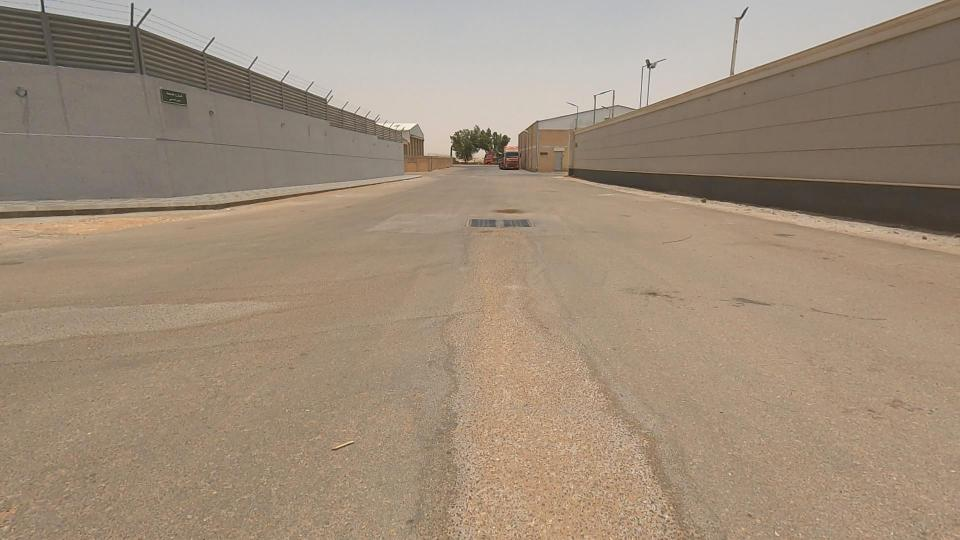POTHOLES: (461, 178, 557, 247)
